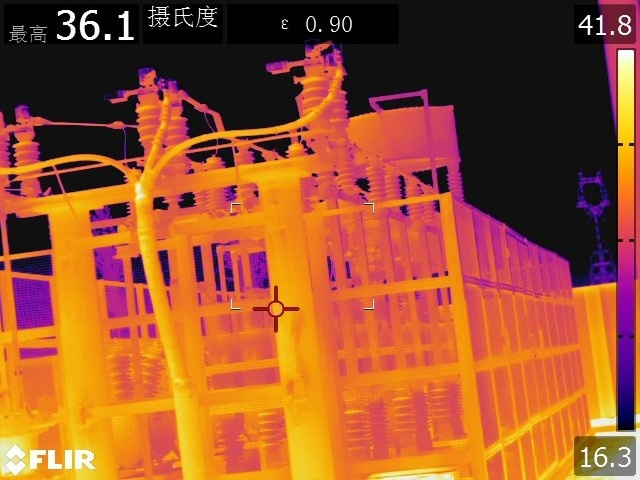capacitor: (347, 90, 467, 178)
post insulator: (298, 70, 336, 142), (133, 95, 166, 154), (347, 402, 378, 458), (254, 409, 287, 461), (231, 146, 259, 206), (390, 385, 416, 447), (13, 136, 44, 187), (162, 104, 190, 157), (203, 156, 227, 209), (328, 83, 349, 141), (430, 380, 454, 426), (363, 158, 386, 203), (333, 149, 355, 191), (442, 163, 464, 201), (405, 178, 424, 217), (1, 135, 13, 182), (385, 167, 400, 203), (421, 191, 436, 224)
switch: (262, 50, 340, 81), (106, 74, 168, 106), (1, 112, 40, 144)
tube: (107, 339, 134, 405), (136, 340, 164, 400)
